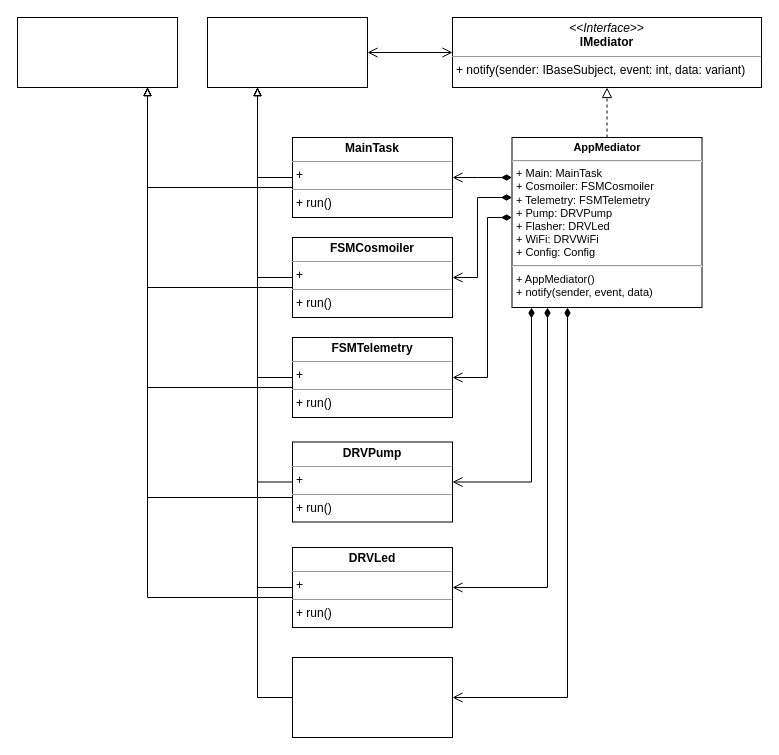
This 779x755 diagram has some shape labels left out. Each missing label, with the box of its shape:
Config + +: (292, 656, 452, 738)
ISubject # app: IMediator + ISubject(app): (206, 16, 368, 88)
Task<> + run(): (16, 16, 178, 88)
